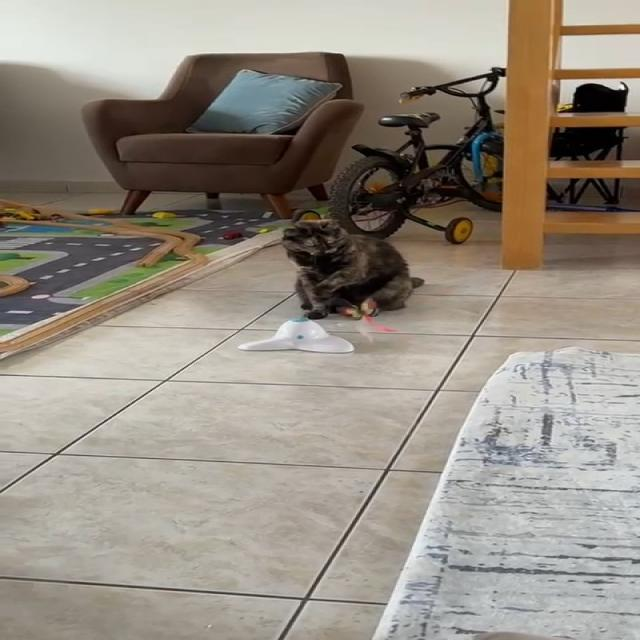authorized: (280, 218, 424, 319)
